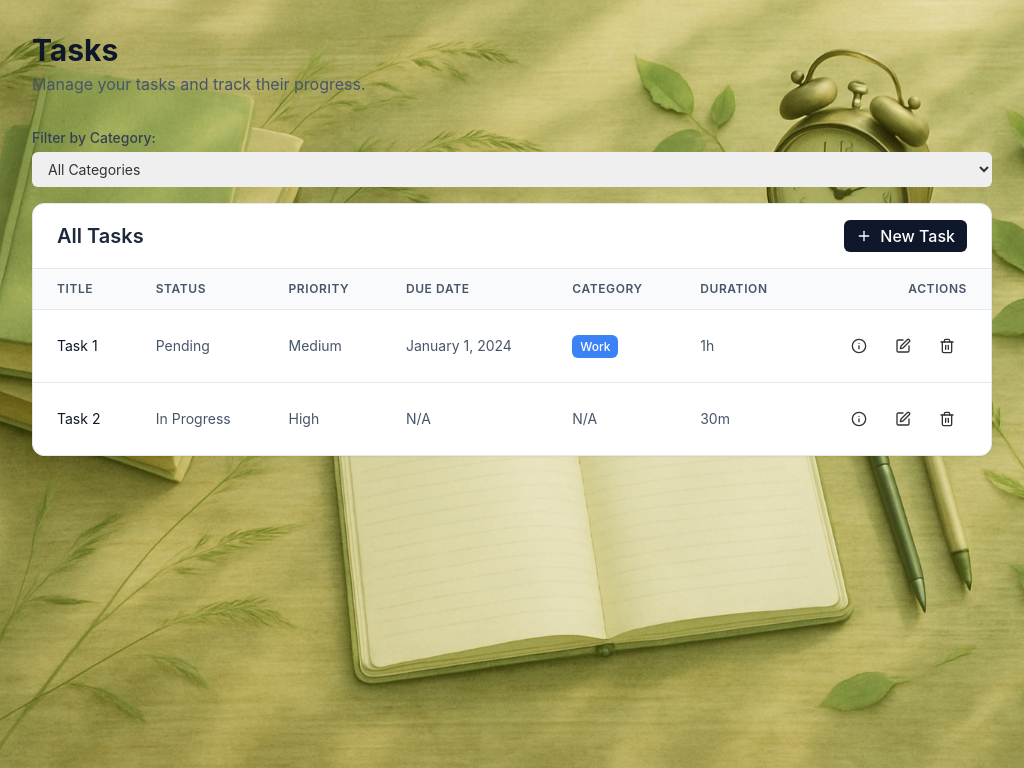
it: TasksPage › closes form when cancel button is clicked
Click the button "New Task" at [906, 236], box [844,220,967,252]
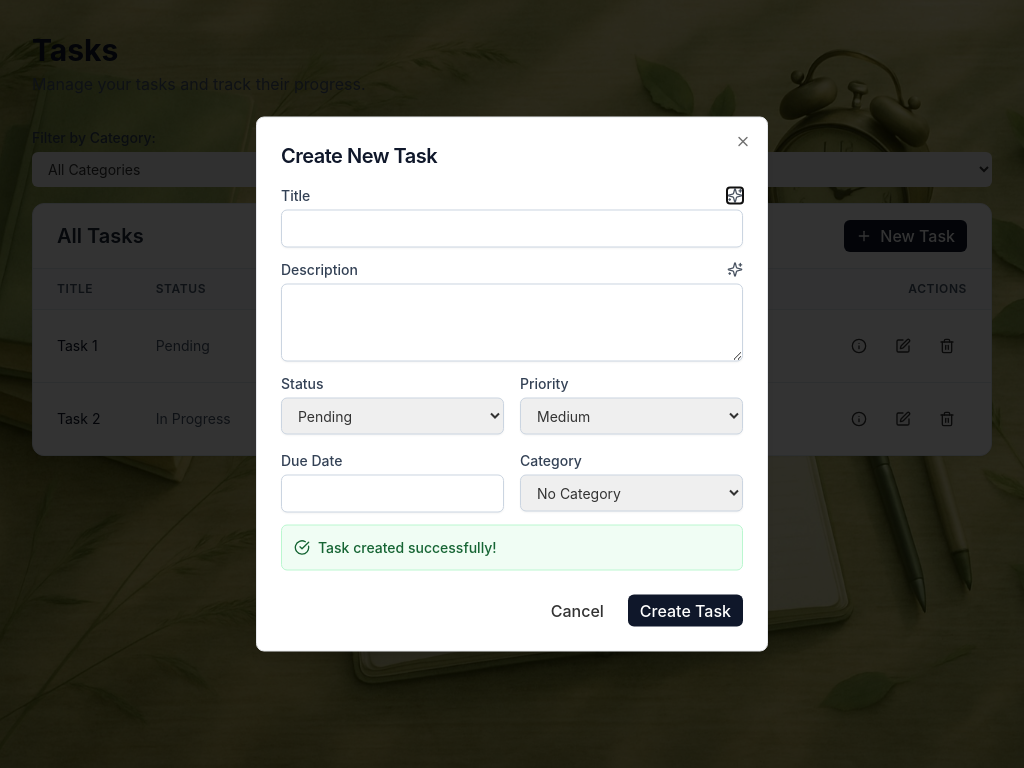
Result: the heading "Create New Task" is shown at [281,144,437,168]
Click the button "Cancel" at [577, 610], box [539,594,616,626]
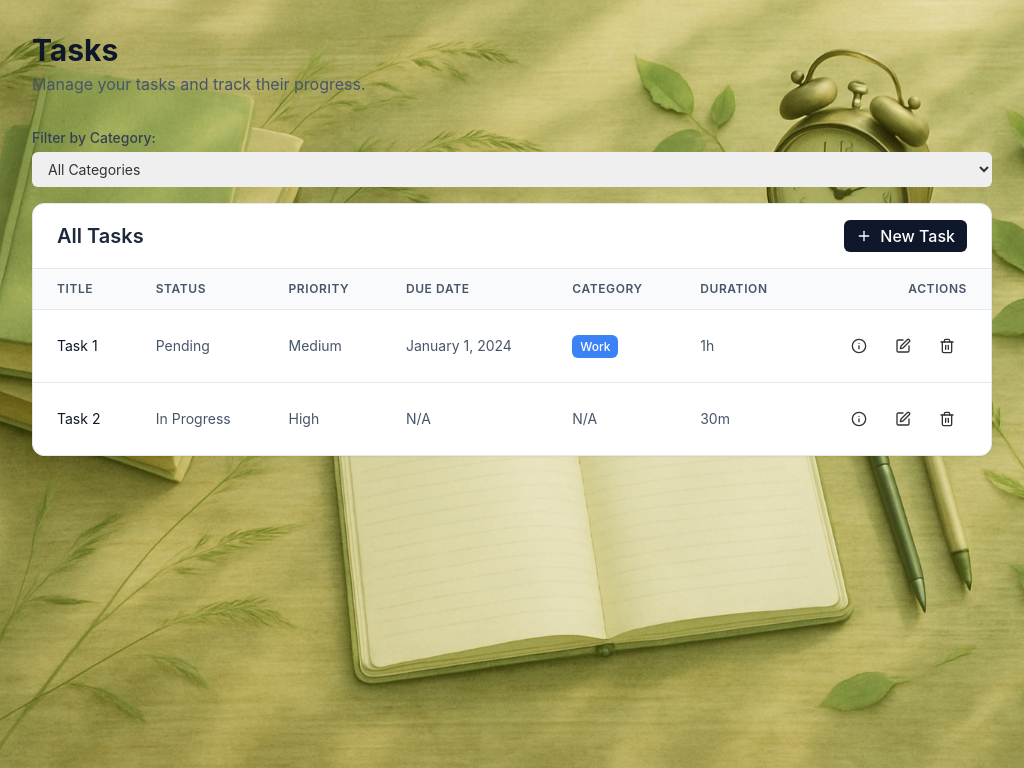
Result: the heading "Create New Task" is gone
